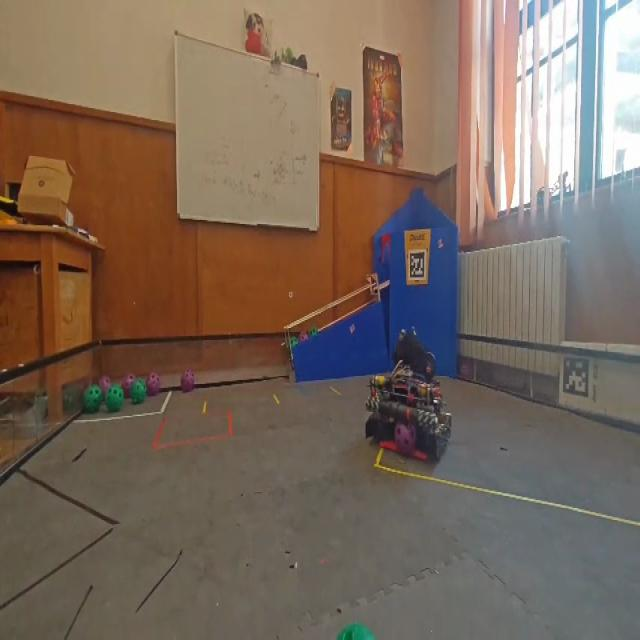artifact_green: (338, 623, 375, 639), (63, 387, 83, 413), (83, 386, 102, 413), (105, 384, 124, 411), (131, 379, 146, 405), (34, 394, 47, 415), (63, 391, 74, 411), (284, 47, 294, 63), (299, 331, 308, 342), (309, 327, 318, 337), (291, 338, 298, 349), (399, 330, 406, 339), (412, 327, 416, 335)
artifact_purple: (395, 423, 415, 455), (122, 374, 136, 398), (147, 372, 161, 395), (181, 370, 195, 393), (99, 376, 111, 397), (300, 332, 308, 342)
